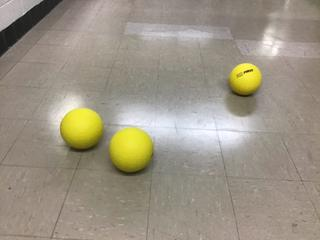power_cell: (59, 104, 104, 156), (112, 129, 153, 173), (231, 61, 263, 97)
